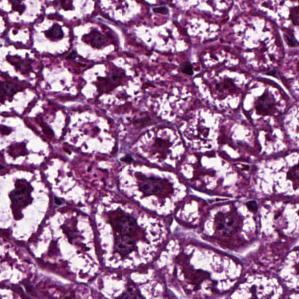inflammation: (0, 162, 54, 241), (74, 50, 146, 105), (195, 192, 262, 250), (117, 160, 186, 215), (193, 65, 251, 114)
